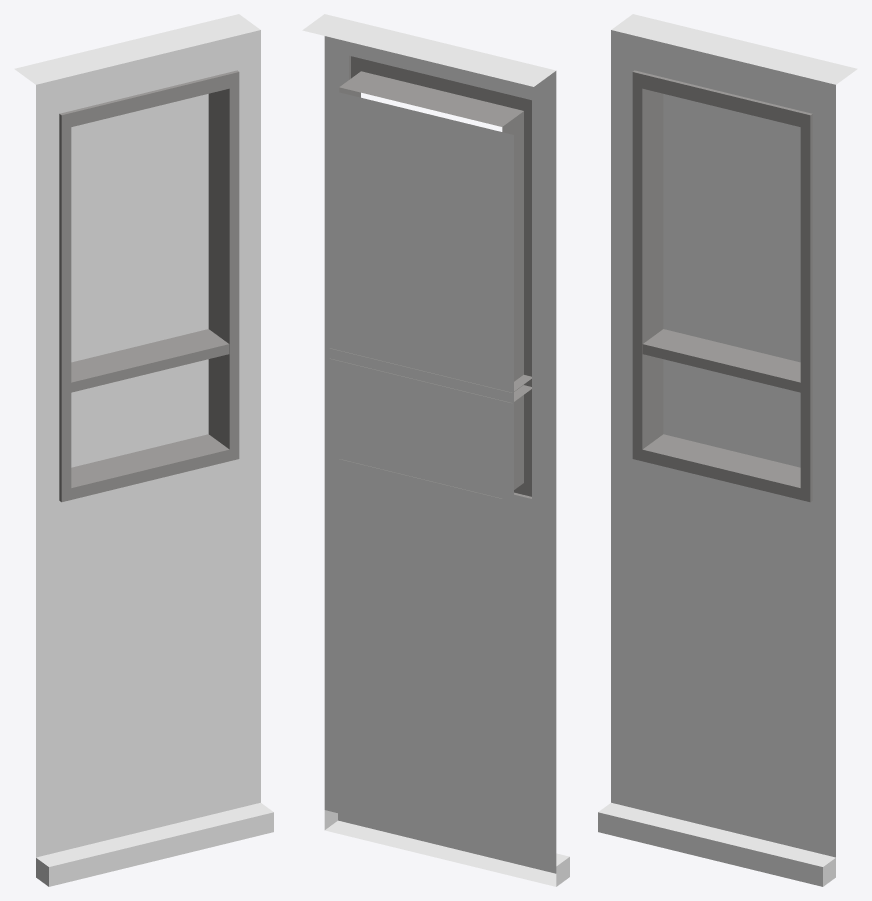
The model's file is 07_wall(window2).FBX.
3 renders of one model, left to right at view 1: azimuth 30°, elevation 25°; view 2: azimuth 150°, elevation 25°; view 3: azimuth 330°, elevation 25°, orthographic. The views are drawn at different scales.
Parts seen in each view (by area): view 1: 07_wall_window, 07_wall_window(light); view 2: 07_wall_window(light), 07_wall_window; view 3: 07_wall_window, 07_wall_window(light).
Part boxes in pixels (<box>): 07_wall_window: <box>14,14,273,886</box>; 07_wall_window(light): <box>71,94,208,467</box>; 07_wall_window(light): <box>327,89,513,704</box>; 07_wall_window: <box>302,14,569,886</box>; 07_wall_window: <box>598,14,857,886</box>; 07_wall_window(light): <box>663,94,800,467</box>.
Size of the model in its own units: 128 by 432 by 34.47.
